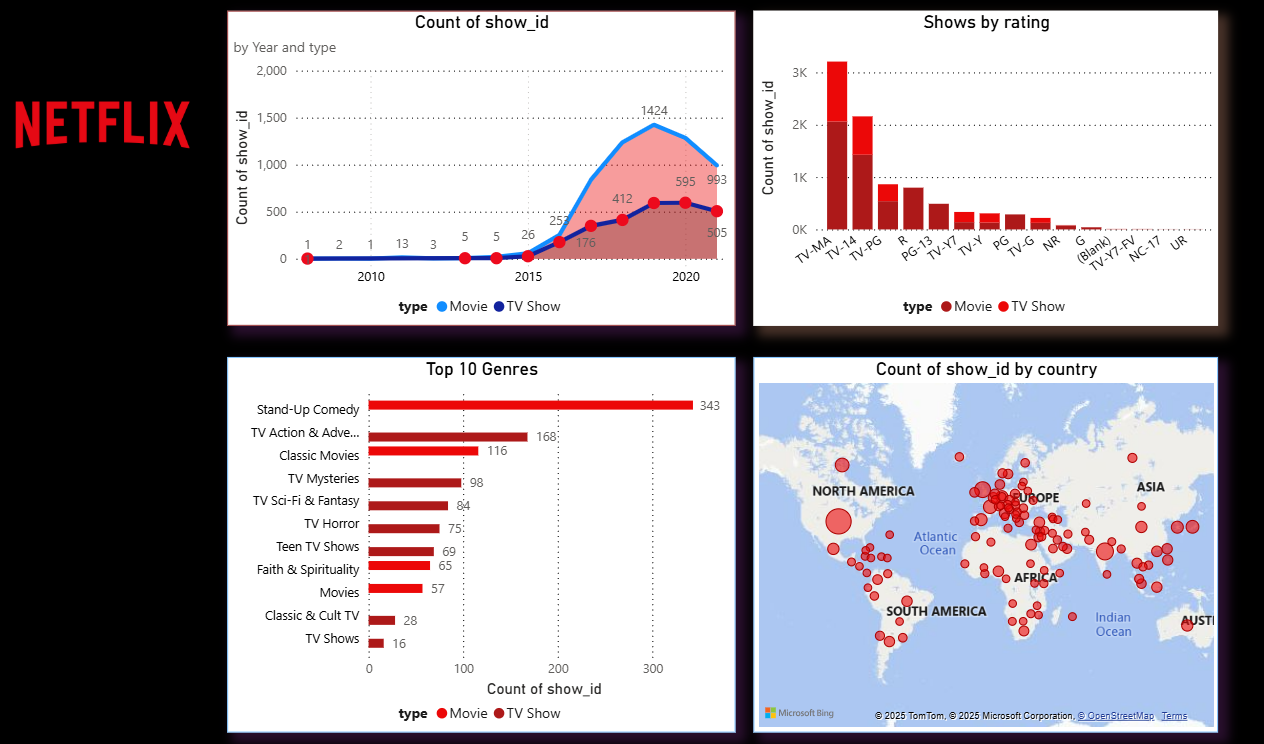

Layout of this report page (visuals, bound fields, positions):
{"tool":"powerbi","page":{"name":"Page 1","canvas":[1280,720],"ordinal":0},"visuals":[{"type":"areaChart","fields":{"Category":["netflix_data titles.date_added.Variation.Date Hierarchy.Year","netflix_data titles.date_added.Variation.Date Hierarchy.Quarter","netflix_data titles.date_added.Variation.Date Hierarchy.Month","netflix_data titles.date_added.Variation.Date Hierarchy.Day"],"Y":["CountNonNull(netflix_data titles.show_id)"],"Series":["netflix_data titles.type"]},"box":[225,17.5,483.8,300],"z":0},{"type":"clusteredBarChart","title":"Top 10 Genres","fields":{"Category":["netflix_data netflix_listed_in.category"],"Series":["netflix_data titles.type"],"Y":["CountNonNull(netflix_data netflix_listed_in.show_id)"]},"box":[225,347.5,483.8,357.5],"z":1000},{"type":"columnChart","title":"Shows by rating ","fields":{"Category":["netflix_data titles.rating"],"Y":["CountNonNull(netflix_data titles.show_id)"],"Series":["netflix_data titles.type"]},"box":[726.2,17.5,442.5,300],"z":2000},{"type":"map","fields":{"Category":["netflix_data countries_released.country"],"Size":["CountNonNull(netflix_data countries_released.show_id)"]},"box":[726.2,347.5,442.5,357.5],"z":3000},{"type":"image","box":[0,0,212.9,248],"z":4000}]}

Visuals, with their boxes in screenshot pixels (x1, y1, x2, y2):
areaChart - netflix_data titles.date_added.Variation.Date Hierarchy.Year x netflix_data titles.date_added.Variation.Date Hierarchy.Quarter: BBox(209, 8, 716, 322)
"Top 10 Genres" clusteredBarChart: BBox(209, 354, 716, 728)
"Shows by rating " columnChart: BBox(734, 8, 1197, 322)
map - netflix_data countries_released.country x CountNonNull(netflix_data countries_released.show_id): BBox(734, 354, 1197, 728)
image: BBox(0, 0, 197, 250)
